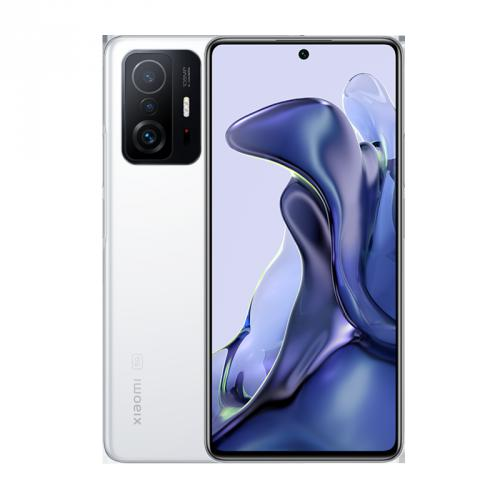Smartphone: (208, 33, 418, 458), (102, 34, 208, 456)
